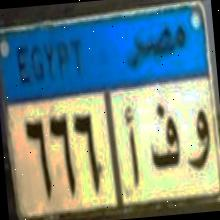6: (72, 109, 106, 194), (22, 116, 54, 203), (49, 112, 77, 196)
alif: (119, 100, 144, 189)
faa: (146, 98, 182, 178)
waw: (182, 90, 216, 178)
